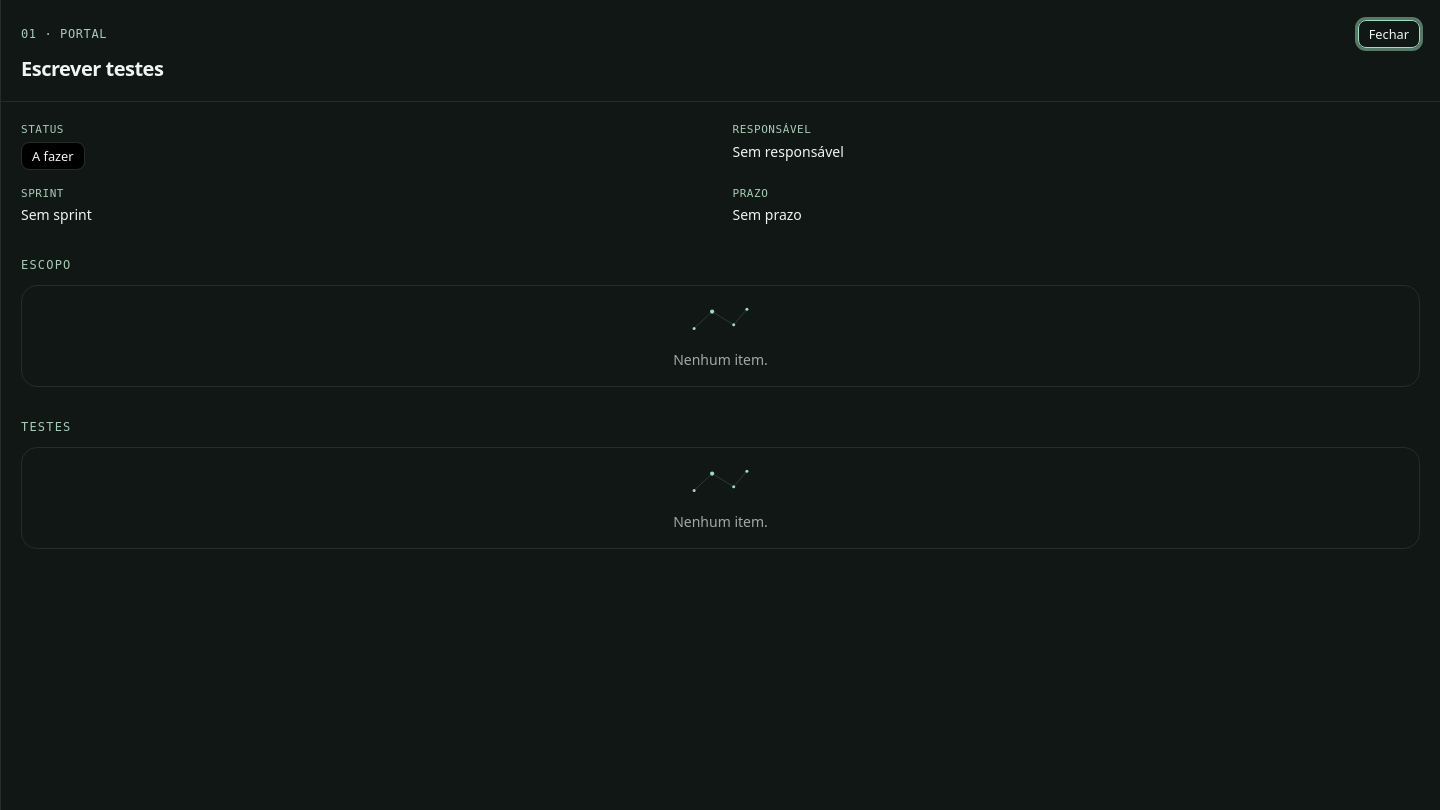
Test: Tarefas › se setTaskStatus falhar, o status volta e a mensagem de erro aparece
Click the button with aria-label "Status: A fazer".
click(53, 156)  # box [21,142,85,170]
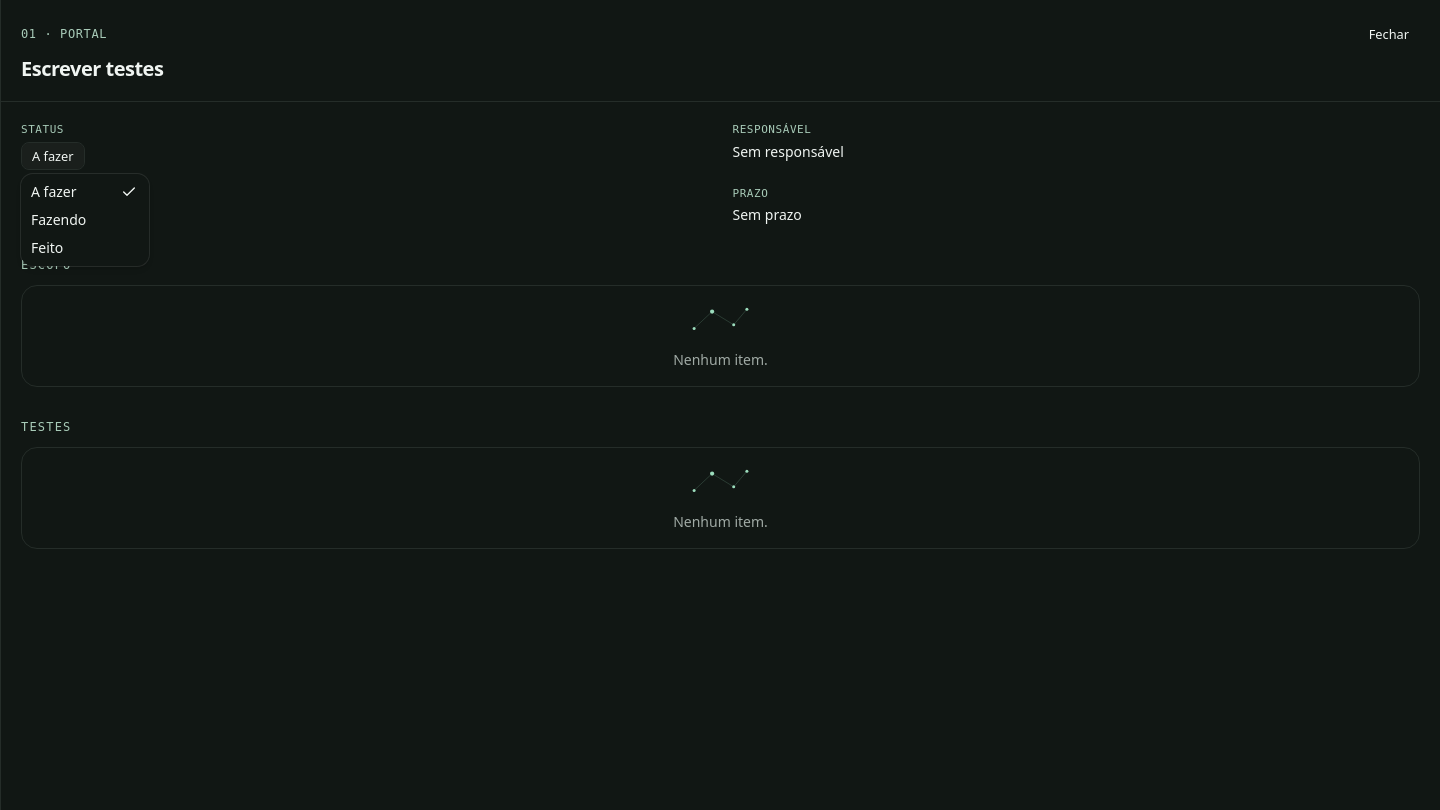
Click the menu item "Fazendo".
click(59, 220)  # box [31,210,86,229]
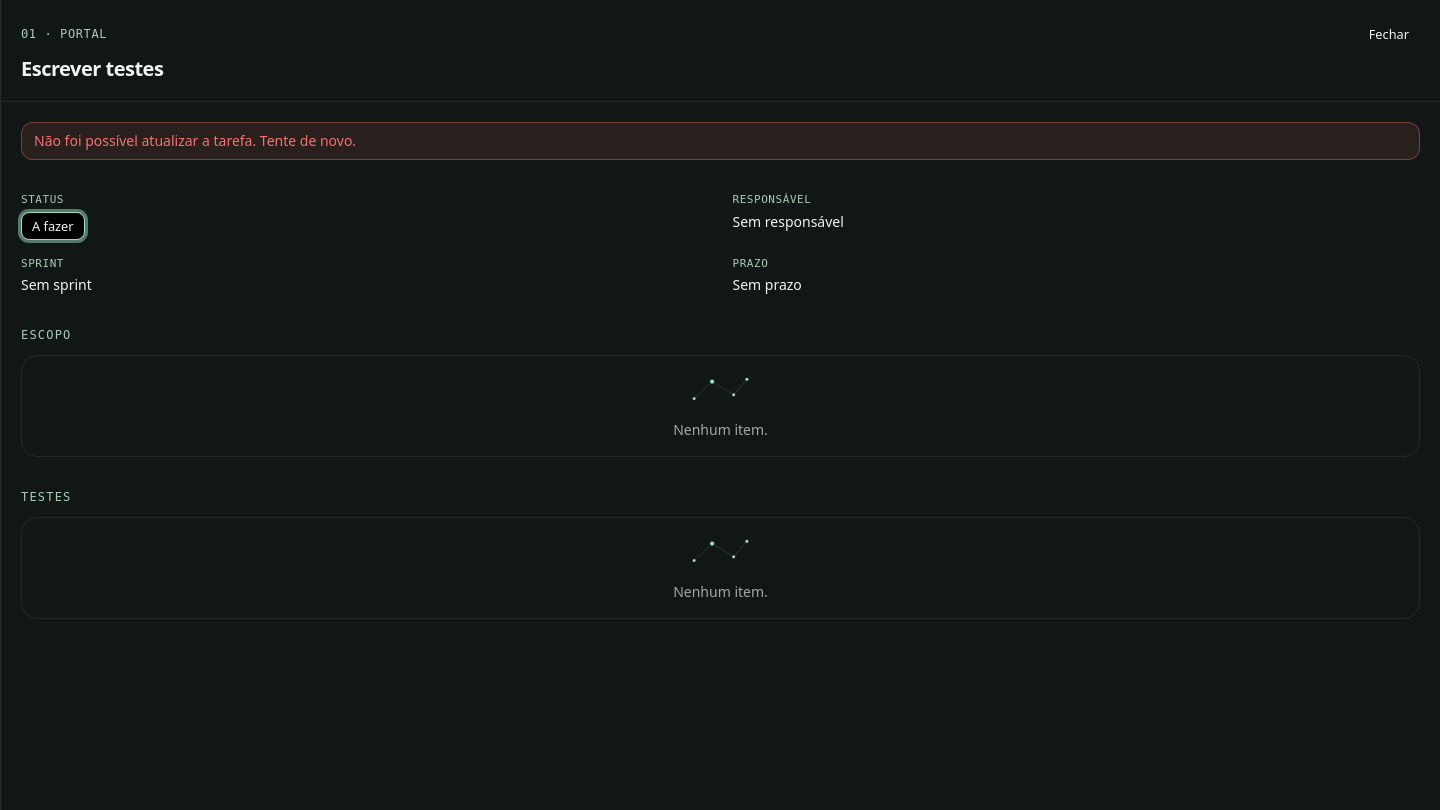
Expected: the button with aria-label "Status: A fazer" is shown, [21,212,85,240]
Result: the message shows "Não foi possível atualizar a tarefa." at [34,131,356,150]
